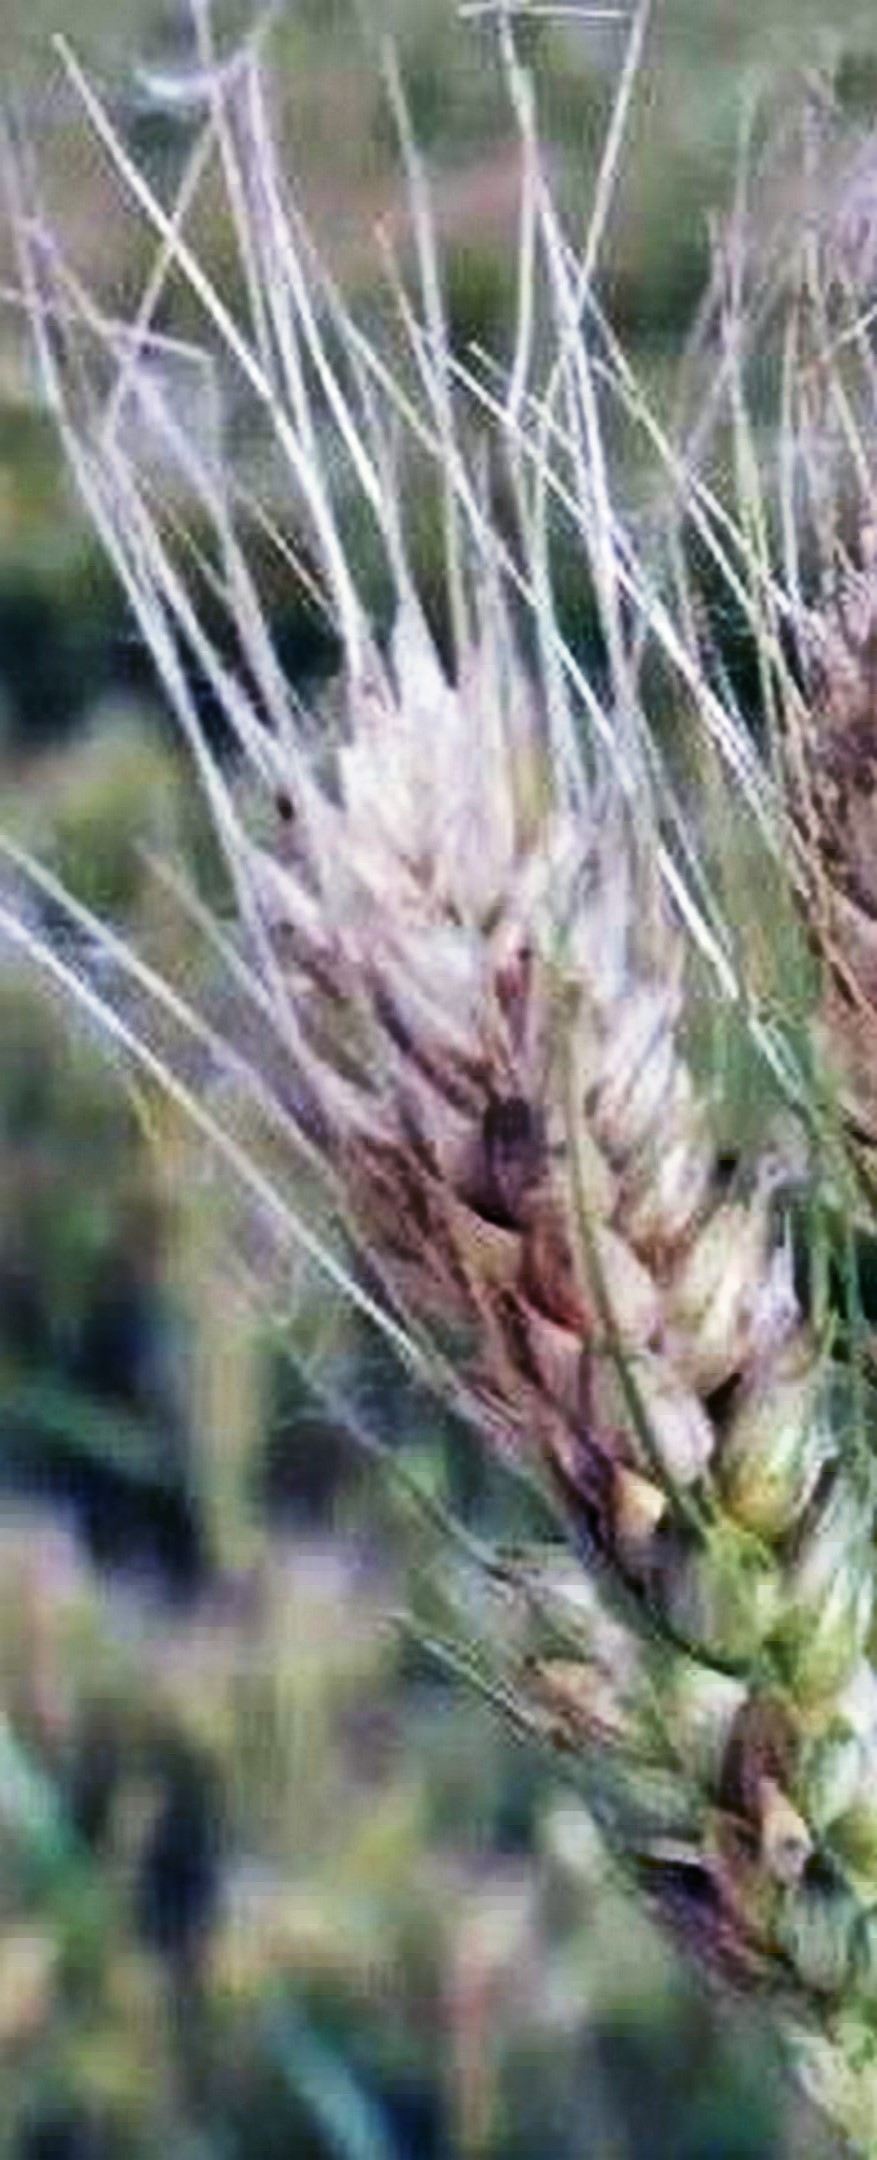Wheat scab: (202, 590, 877, 2043)
